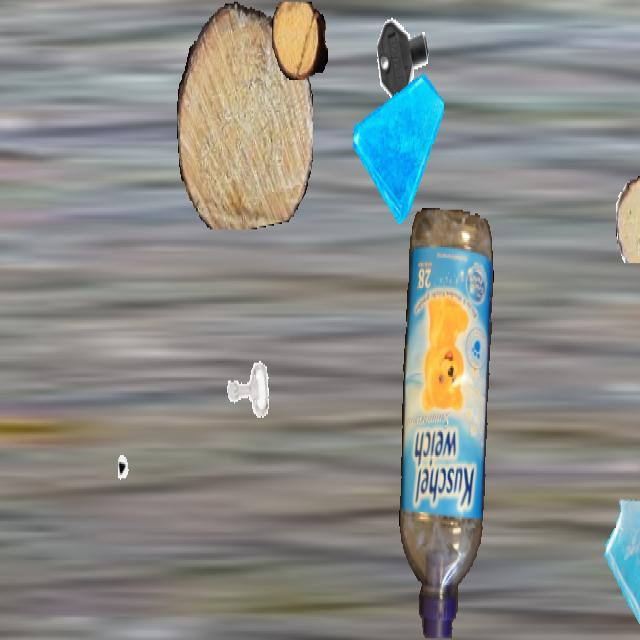glass: (353, 62, 443, 222), (603, 486, 640, 638)
metal: (118, 423, 180, 533), (373, 2, 435, 112), (221, 343, 273, 436)
plastic: (398, 208, 496, 638)
wood: (177, 2, 313, 229), (272, 2, 328, 80), (616, 174, 640, 263)
